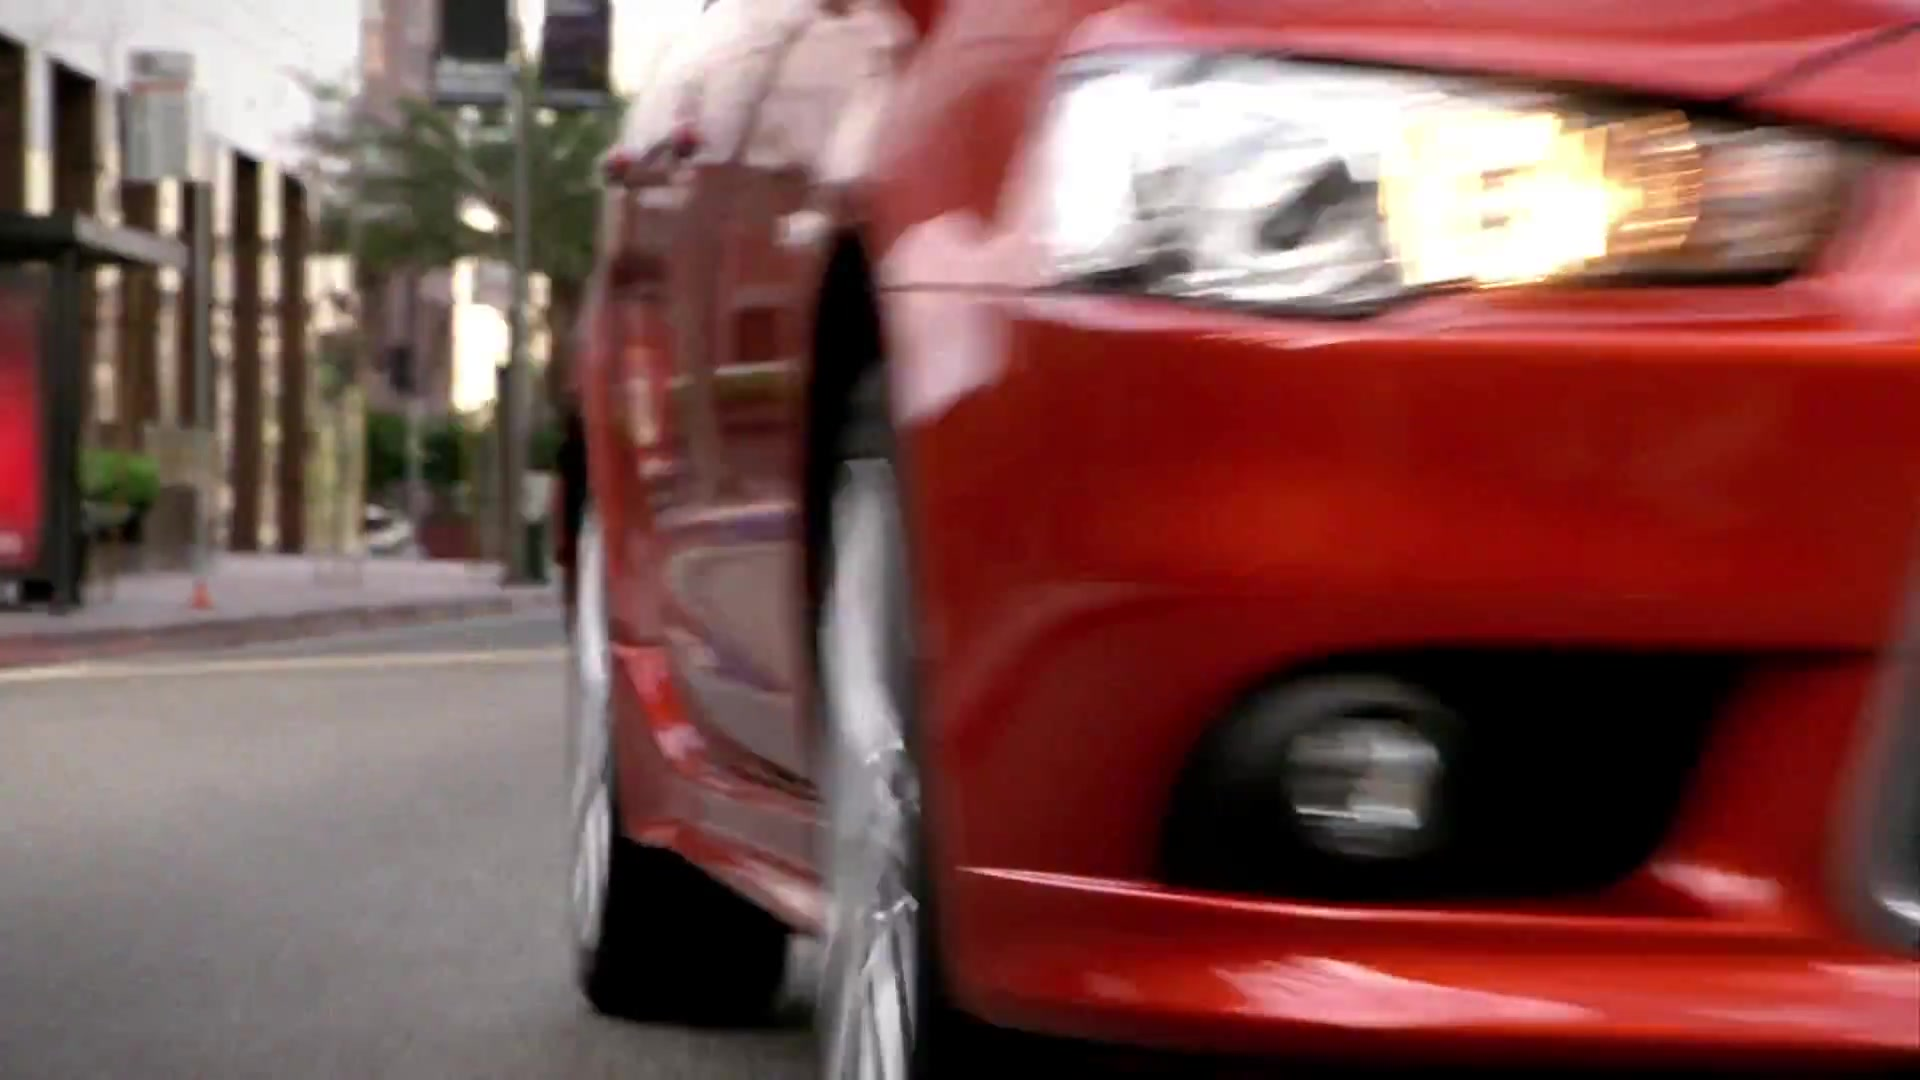car: (549, 1, 1920, 1077)
